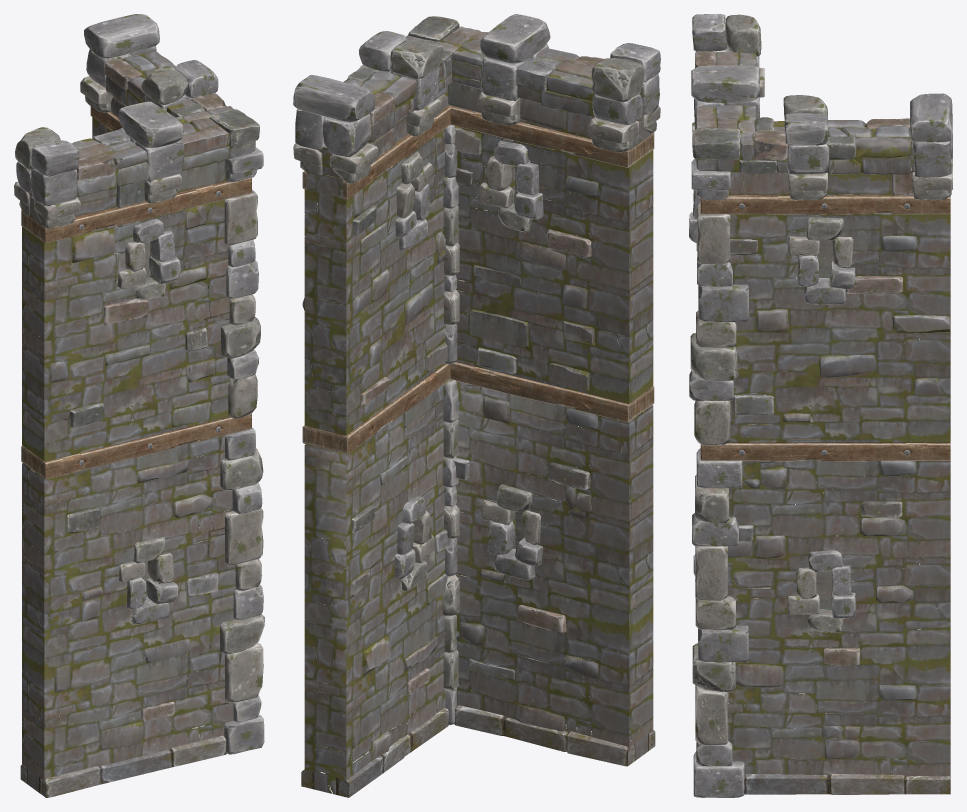
The picture shows the model from 3 angles, left to right: view 1: azimuth 30°, elevation 25°; view 2: azimuth 150°, elevation 25°; view 3: azimuth 270°, elevation 25°; orthographic projection. The views are drawn at different scales.
Visible parts, largest first — view 1: SM_Castle_Wall_Corner_4x12_01_v1_LOD0; view 2: SM_Castle_Wall_Corner_4x12_01_v1_LOD0; view 3: SM_Castle_Wall_Corner_4x12_01_v1_LOD0.
Part boxes in pixels (<box>): SM_Castle_Wall_Corner_4x12_01_v1_LOD0: <box>14,14,264,797</box>; SM_Castle_Wall_Corner_4x12_01_v1_LOD0: <box>293,14,660,797</box>; SM_Castle_Wall_Corner_4x12_01_v1_LOD0: <box>689,14,952,797</box>.
Size of the model in its own units: 4.32 by 12.09 by 4.27.
6 materials, 6 textured.
